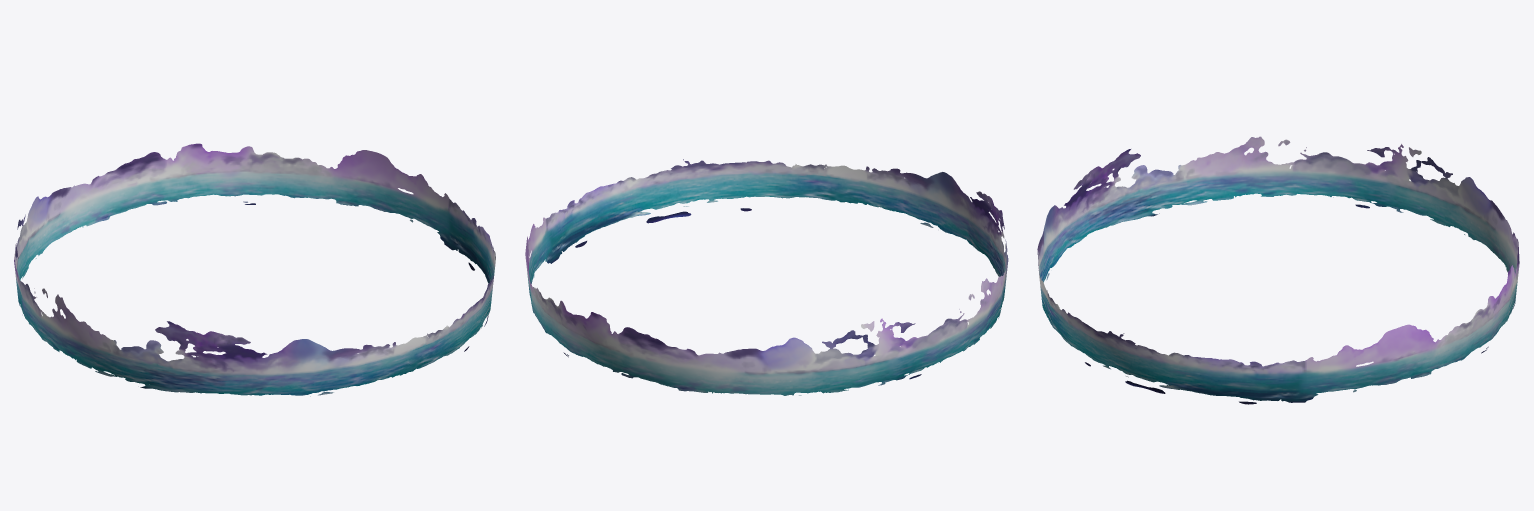
The model's file is haipingmian.FBX.
The picture shows the model from 3 angles, left to right: view 1: azimuth 30°, elevation 25°; view 2: azimuth 150°, elevation 25°; view 3: azimuth 270°, elevation 25°; orthographic projection.
Parts seen in each view (by area): view 1: Sphere007; view 2: Sphere007; view 3: Sphere007.
Boxes of the visible parts, x1,y1,x2,y2 form: Sphere007: [14, 143, 495, 396]; Sphere007: [525, 159, 1008, 395]; Sphere007: [1037, 136, 1519, 404].
Bounding box in the file's own units: 748229 × 750546 × 748229.
